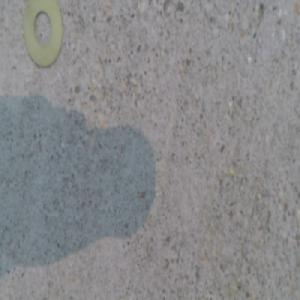Washer: (25, 0, 63, 68)
